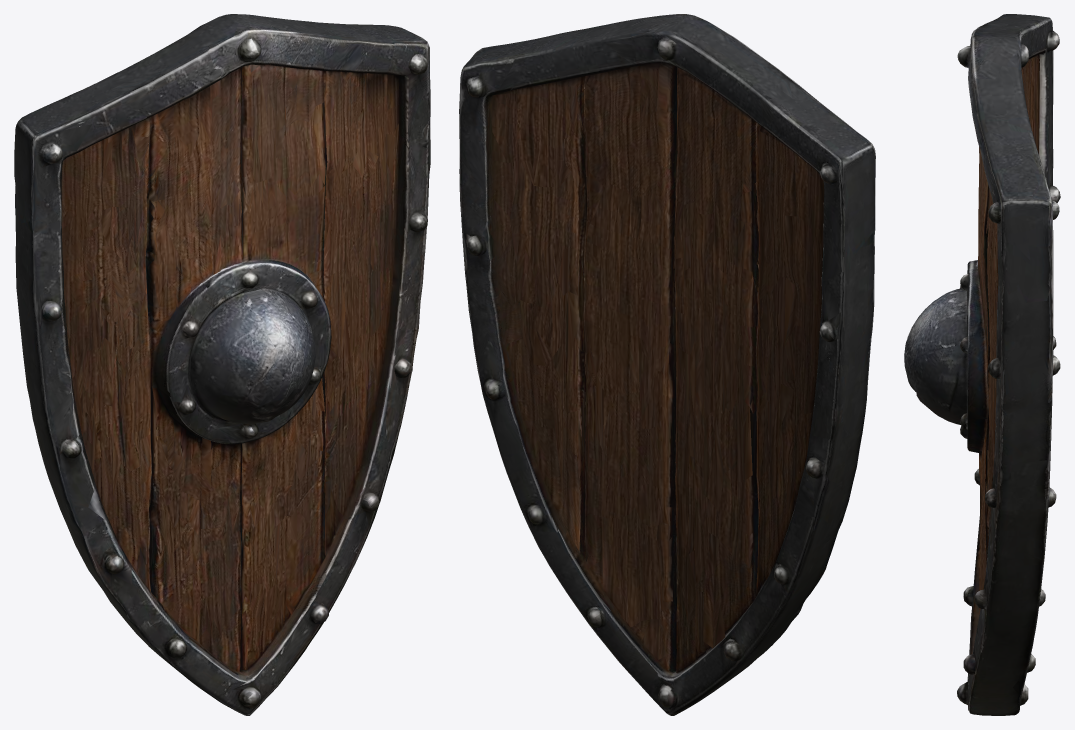
File: shield.glb
3 views of the same model, side by side, from view 1: azimuth 30°, elevation 25°; view 2: azimuth 150°, elevation 25°; view 3: azimuth 270°, elevation 25° (orthographic).
Visible parts, largest first — view 1: shield; view 2: shield; view 3: shield.
Boxes of the visible parts, box(x1,y1,x2,y2) form: shield: box(14, 14, 430, 715); shield: box(459, 14, 875, 715); shield: box(904, 14, 1060, 715).
Size of the model in its own units: 0.3757 by 0.62 by 0.1298.
1 material, 1 textured.
